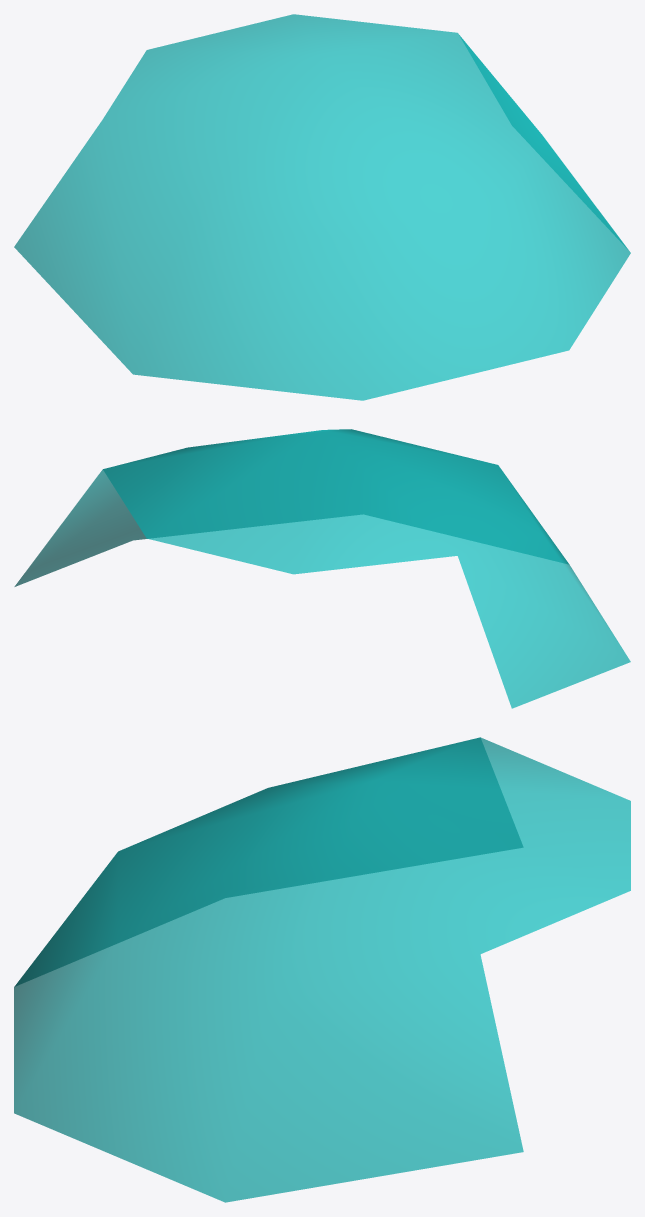
Rendered from dummy_ice1.gltf.
The picture shows the model from 3 angles, top to bottom: view 1: azimuth 30°, elevation 25°; view 2: azimuth 150°, elevation 25°; view 3: azimuth 270°, elevation 25°; orthographic projection. The views are drawn at different scales.
Parts seen in each view (by area): view 1: dummy_ice1; view 2: dummy_ice1; view 3: dummy_ice1.
Boxes of the visible parts, bbox=[...] form: dummy_ice1: bbox=[14, 14, 630, 400]; dummy_ice1: bbox=[14, 429, 630, 708]; dummy_ice1: bbox=[14, 737, 630, 1202].
Size of the model in its own units: 0.2805 by 0.1157 by 0.2402.
